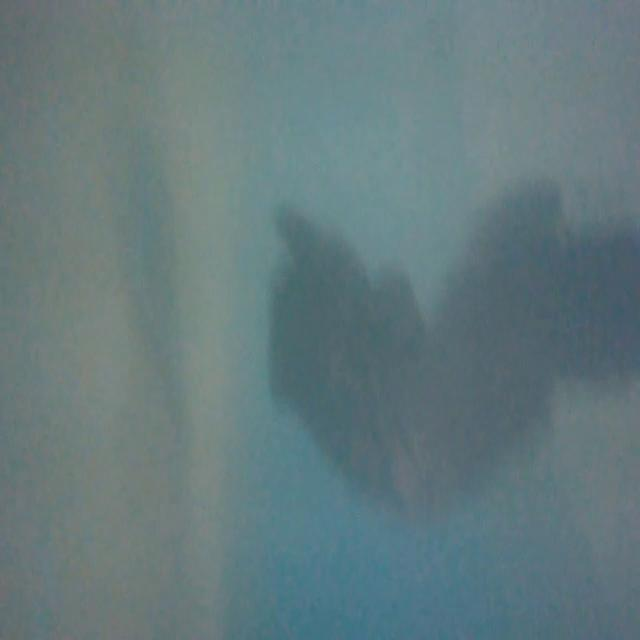plastic bags: (265, 187, 640, 533)
